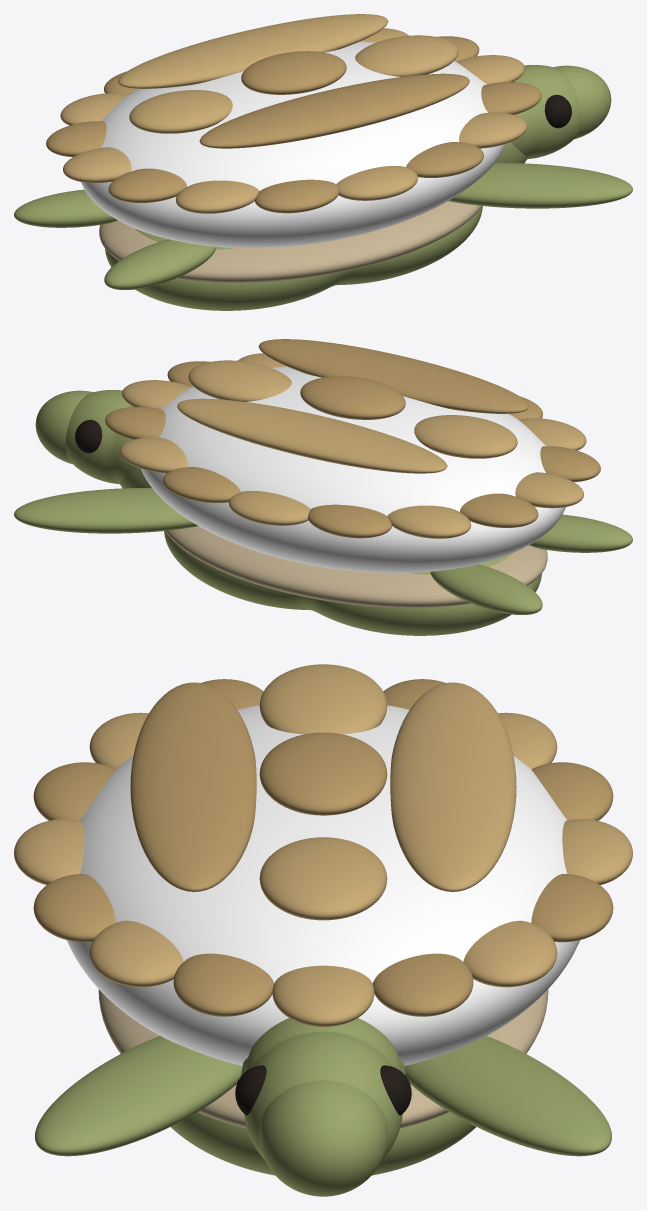
File: sea-turtle.glb
3 renders of one model, top to bottom at view 1: azimuth 30°, elevation 25°; view 2: azimuth 150°, elevation 25°; view 3: azimuth 270°, elevation 25°, orthographic. The views are drawn at different scales.
Visible parts, largest first — view 1: Turtle_Carapace, Turtle_Plastron, Scute_Costal_1, Scute_Costal_0, Turtle_Body, Turtle_Flap_Front_R, Turtle_Head, Scute_Vert_1, Scute_Vert_0, Turtle_Flap_Rear_R, Scute_Vert_2, Turtle_Flap_Rear_L (+15 smaller); view 2: Turtle_Carapace, Turtle_Plastron, Scute_Costal_0, Scute_Costal_1, Turtle_Body, Turtle_Flap_Front_L, Turtle_Head, Scute_Vert_1, Scute_Vert_0, Turtle_Flap_Rear_L, Scute_Vert_2, Turtle_Flap_Rear_R (+15 smaller); view 3: Turtle_Carapace, Scute_Costal_0, Scute_Costal_1, Turtle_Flap_Front_L, Turtle_Flap_Front_R, Turtle_Snout, Turtle_Head, Scute_Vert_2, Scute_Vert_1, Scute_Vert_0, Turtle_Body, Turtle_Plastron (+17 smaller).
Part boxes in pixels (x1,y1,x2,y2): Turtle_Carapace: [81, 41, 505, 248]; Turtle_Plastron: [99, 201, 481, 282]; Scute_Costal_1: [199, 73, 469, 148]; Scute_Costal_0: [118, 14, 388, 88]; Turtle_Body: [105, 206, 482, 310]; Turtle_Flap_Front_R: [448, 163, 632, 208]; Turtle_Head: [511, 65, 581, 159]; Scute_Vert_1: [241, 51, 346, 94]; Scute_Vert_0: [129, 90, 232, 133]; Turtle_Flap_Rear_R: [104, 239, 216, 289]; Scute_Vert_2: [355, 35, 458, 76]; Turtle_Flap_Rear_L: [14, 189, 117, 227]; Turtle_Carapace: [141, 366, 565, 573]; Turtle_Plastron: [165, 526, 547, 607]; Scute_Costal_0: [177, 398, 447, 473]; Scute_Costal_1: [258, 339, 528, 413]; Turtle_Body: [164, 531, 541, 635]; Turtle_Flap_Front_L: [14, 488, 198, 533]; Turtle_Head: [65, 390, 135, 484]; Scute_Vert_1: [300, 376, 405, 419]; Scute_Vert_0: [414, 415, 517, 458]; Turtle_Flap_Rear_L: [430, 564, 542, 614]; Scute_Vert_2: [188, 360, 291, 401]; Turtle_Flap_Rear_R: [529, 514, 632, 552]; Turtle_Carapace: [67, 705, 579, 1065]; Scute_Costal_0: [390, 682, 516, 891]; Scute_Costal_1: [130, 682, 256, 891]; Turtle_Flap_Front_L: [404, 1036, 611, 1156]; Turtle_Flap_Front_R: [35, 1036, 242, 1156]; Turtle_Snout: [259, 1080, 387, 1196]; Turtle_Head: [244, 1018, 402, 1159]; Scute_Vert_2: [259, 837, 387, 920]; Scute_Vert_1: [259, 732, 387, 815]; Scute_Vert_0: [259, 664, 387, 734]; Turtle_Body: [171, 1112, 475, 1175]; Turtle_Plastron: [98, 989, 548, 1128].
Bounding box in the file's own units: 4.64 × 1.74 × 2.87.
